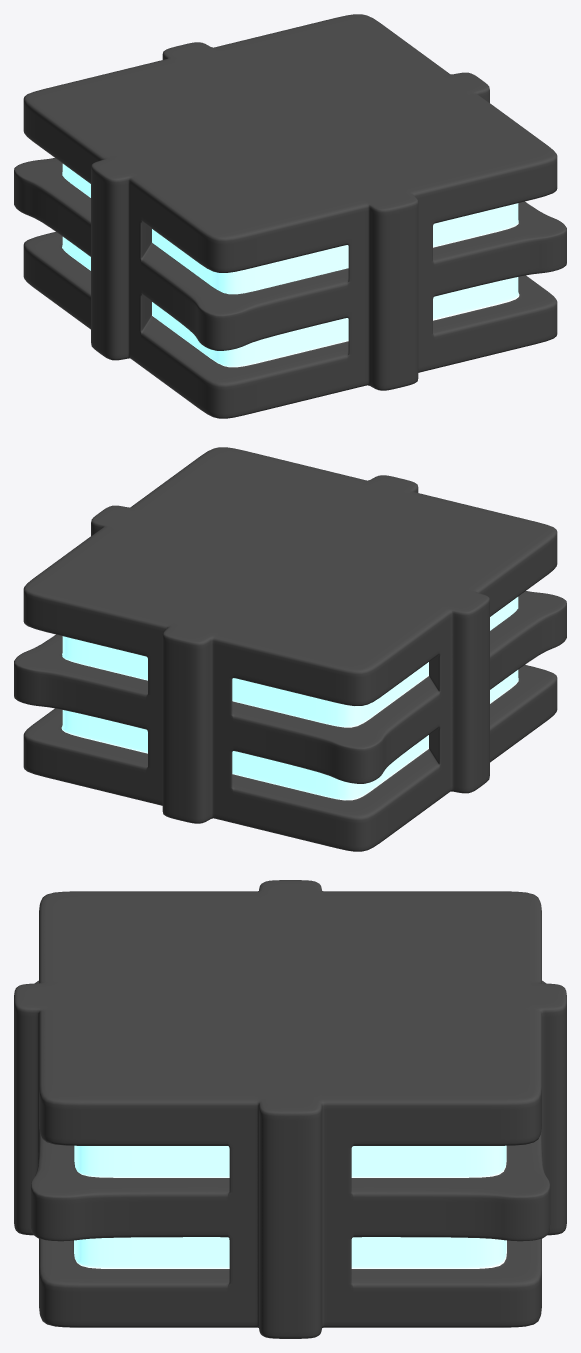
Rendered from BuildingBase_03.fbx.
3 renders of one model, top to bottom at view 1: azimuth 30°, elevation 25°; view 2: azimuth 150°, elevation 25°; view 3: azimuth 270°, elevation 25°, orthographic. The views are drawn at different scales.
Parts seen in each view (by area): view 1: BuildingBase_03; view 2: BuildingBase_03; view 3: BuildingBase_03.
Part boxes in pixels (box(x1,y1,x2,y2)): BuildingBase_03: box(14, 14, 566, 418); BuildingBase_03: box(14, 447, 566, 851); BuildingBase_03: box(14, 880, 566, 1338).
Size of the model in its own units: 220000 by 100000 by 220000.
